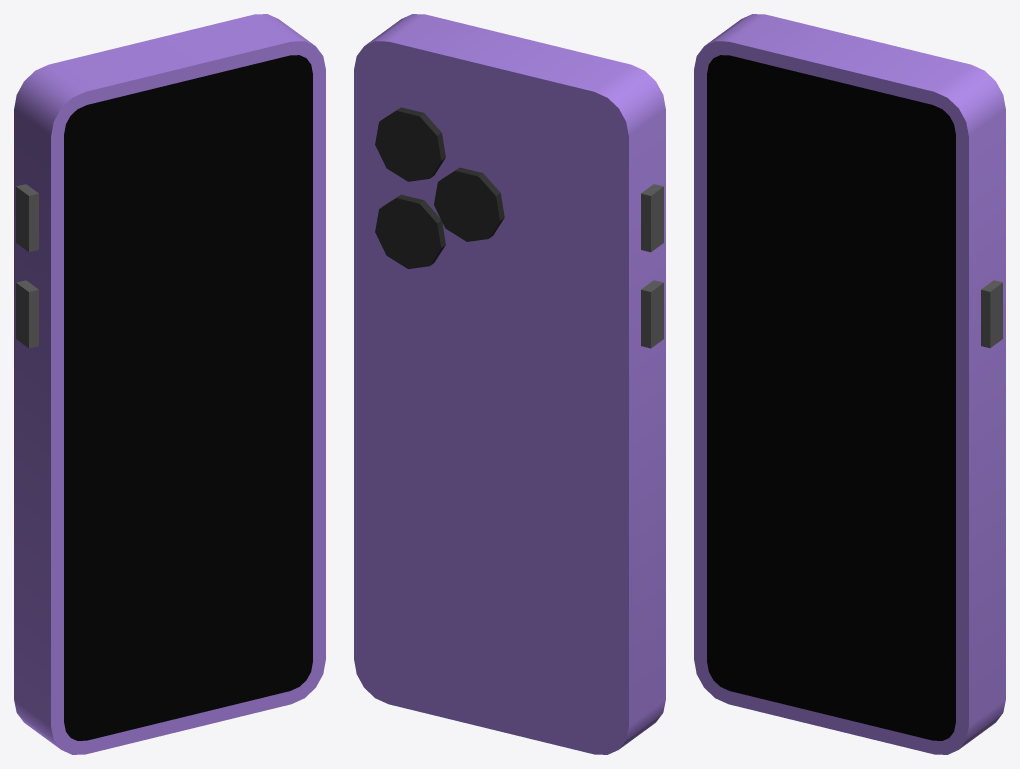
The model's file is phone.fbx.
The picture shows the model from 3 angles, left to right: view 1: azimuth 30°, elevation 25°; view 2: azimuth 150°, elevation 25°; view 3: azimuth 330°, elevation 25°; orthographic projection.
Visible parts, largest first — view 1: telefon; view 2: telefon; view 3: telefon.
Boxes of the visible parts, x1,y1,x2,y2 form: telefon: (14,14,325,754); telefon: (354,14,665,754); telefon: (694,14,1005,754).
Bounding box in the file's own units: 92.9 × 22.85 × 200.
